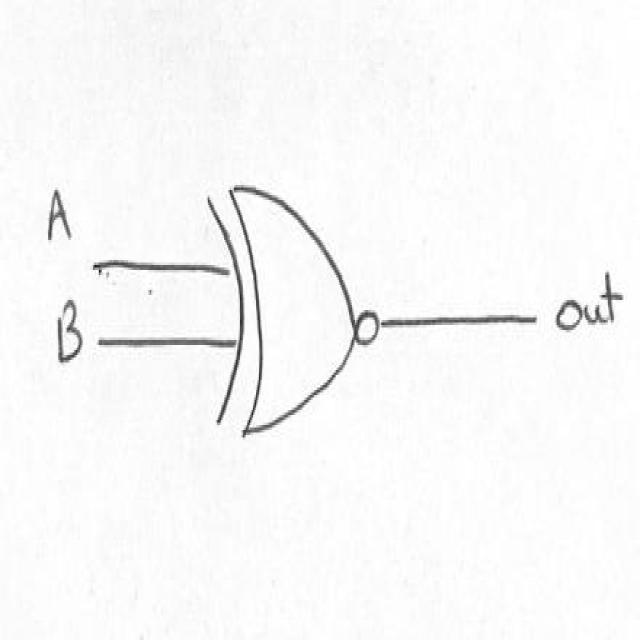XNOR: (190, 158, 390, 464)
